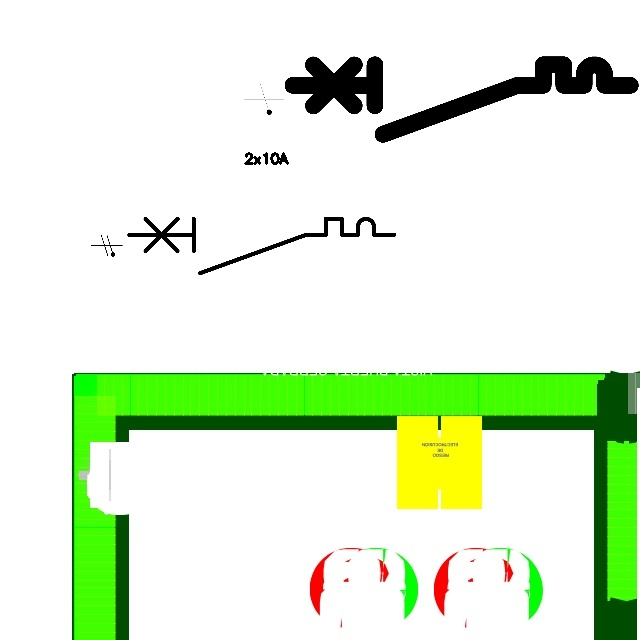interruptor_termomagnetico: (284, 56, 639, 143), (122, 212, 400, 280)
